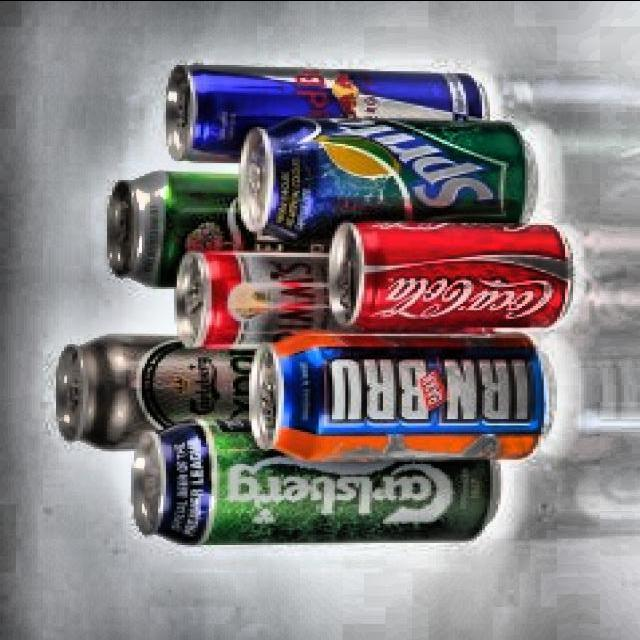litter: (123, 412, 508, 544), (243, 320, 552, 465), (230, 113, 537, 245), (158, 59, 496, 166), (96, 166, 344, 291), (318, 219, 582, 333), (48, 328, 266, 452), (170, 241, 374, 357)
